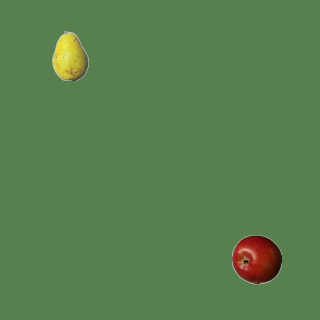Apple Braeburn: (231, 234, 281, 284)
Pear Monster: (45, 30, 95, 80)
